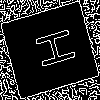H: (25, 25, 77, 74)
